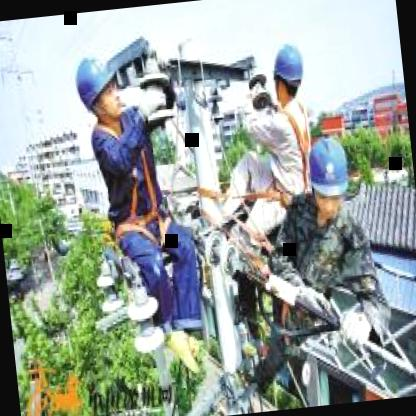helmet: (67, 42, 133, 130), (303, 126, 356, 226), (268, 38, 310, 110)
